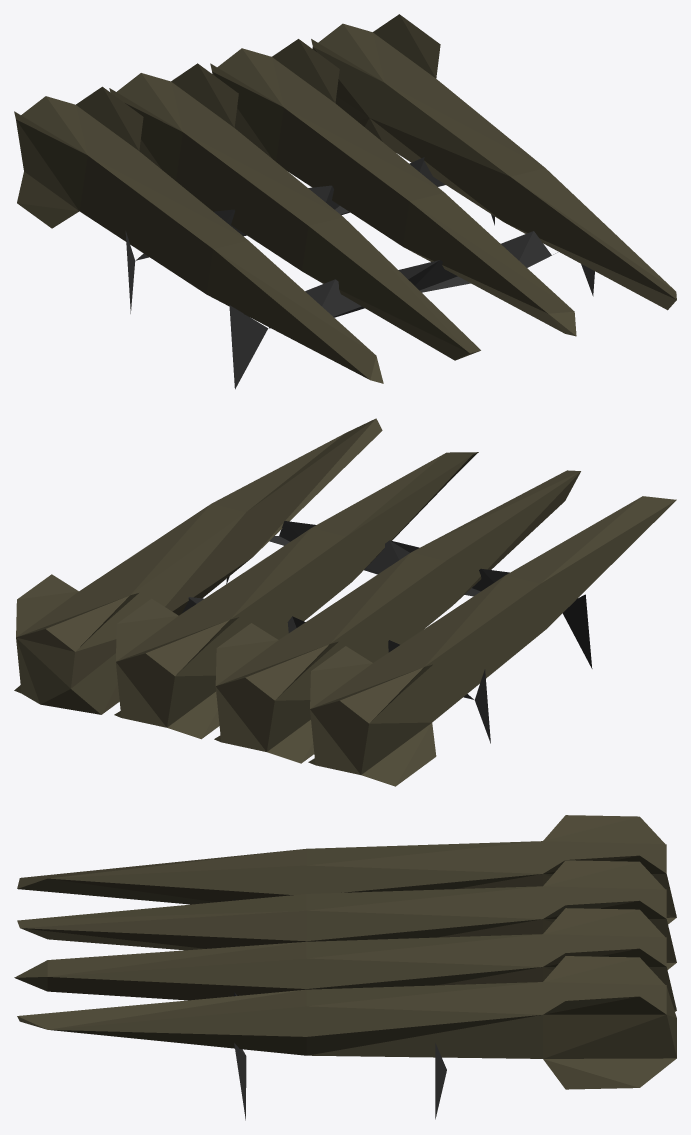
The model's file is mb-missile-rack.lod2.glb.
The picture shows the model from 3 angles, top to bottom: view 1: azimuth 30°, elevation 25°; view 2: azimuth 150°, elevation 25°; view 3: azimuth 270°, elevation 25°; orthographic projection. The views are drawn at different scales.
Parts seen in each view (by area): view 1: missile_rack_loaded; view 2: missile_rack_loaded; view 3: missile_rack_loaded.
Boxes of the visible parts, box(x1,y1,x2,y2) form: missile_rack_loaded: box(14, 14, 676, 389); missile_rack_loaded: box(14, 418, 676, 786); missile_rack_loaded: box(14, 815, 676, 1120).
Size of the model in its own units: 1.97 by 0.642 by 3.
